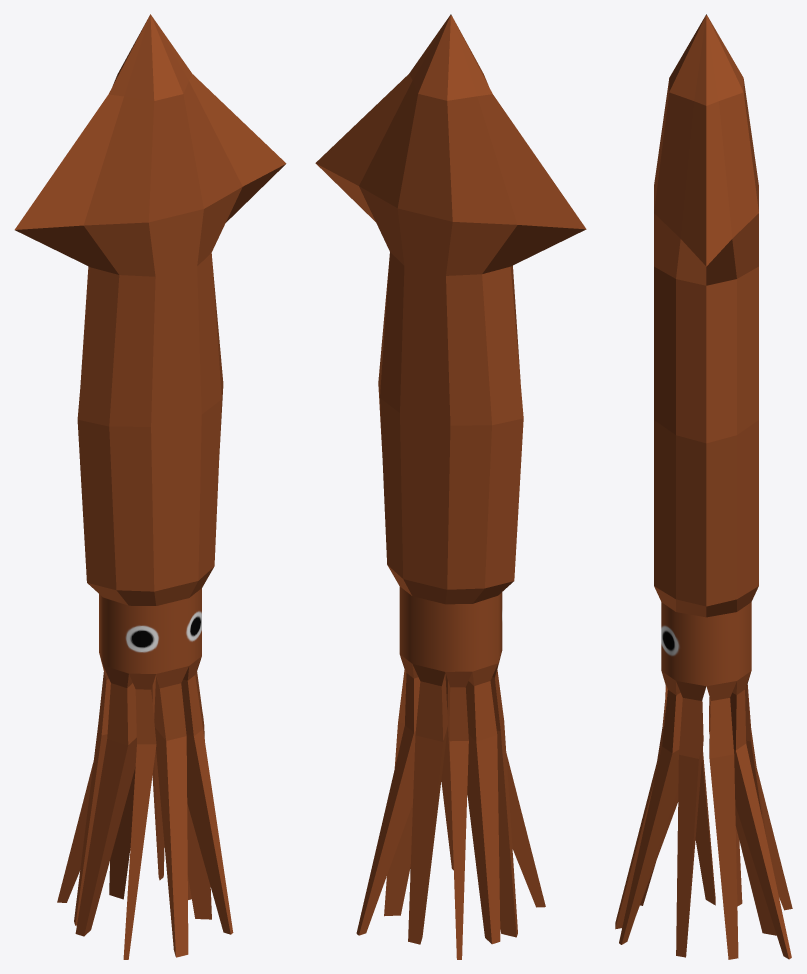
File: squid_fish.fbx
The picture shows the model from 3 angles, left to right: view 1: azimuth 30°, elevation 25°; view 2: azimuth 150°, elevation 25°; view 3: azimuth 270°, elevation 25°; orthographic projection.
Parts seen in each view (by area): view 1: Rectangle001; view 2: Rectangle001; view 3: Rectangle001.
Part boxes in pixels (<box>): Rectangle001: <box>14,14,286,959</box>; Rectangle001: <box>315,14,586,959</box>; Rectangle001: <box>615,14,792,959</box>.
Bounding box in the file's own units: 143 × 456 × 79.86.
1 material, 1 textured.
